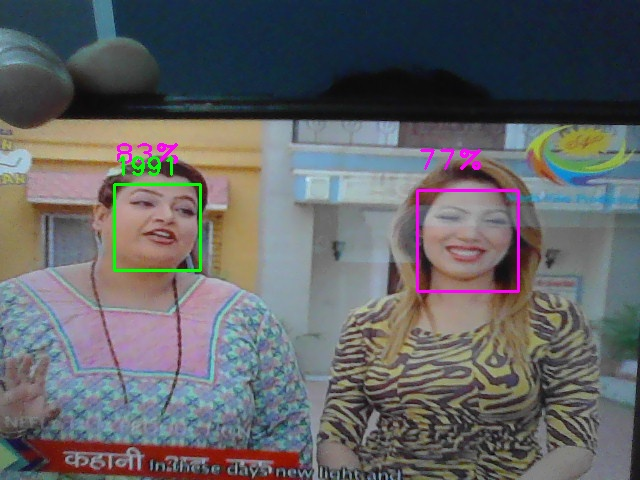fake: (114, 184, 201, 271)
